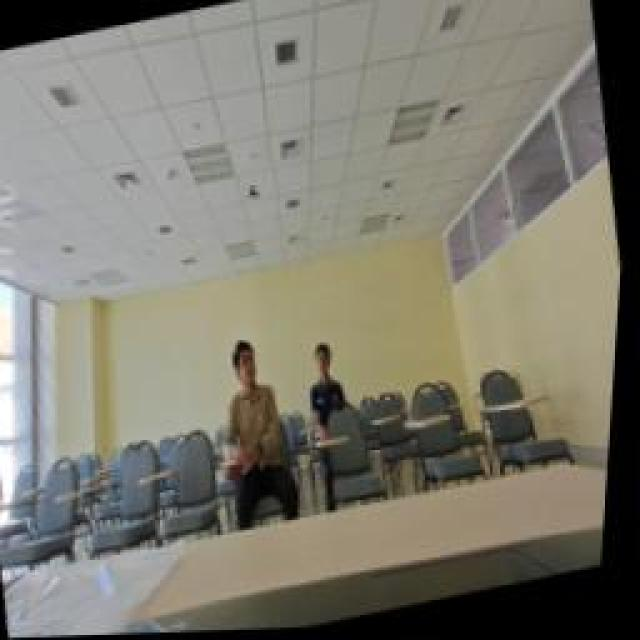study: (210, 333, 322, 535), (300, 337, 362, 445)
